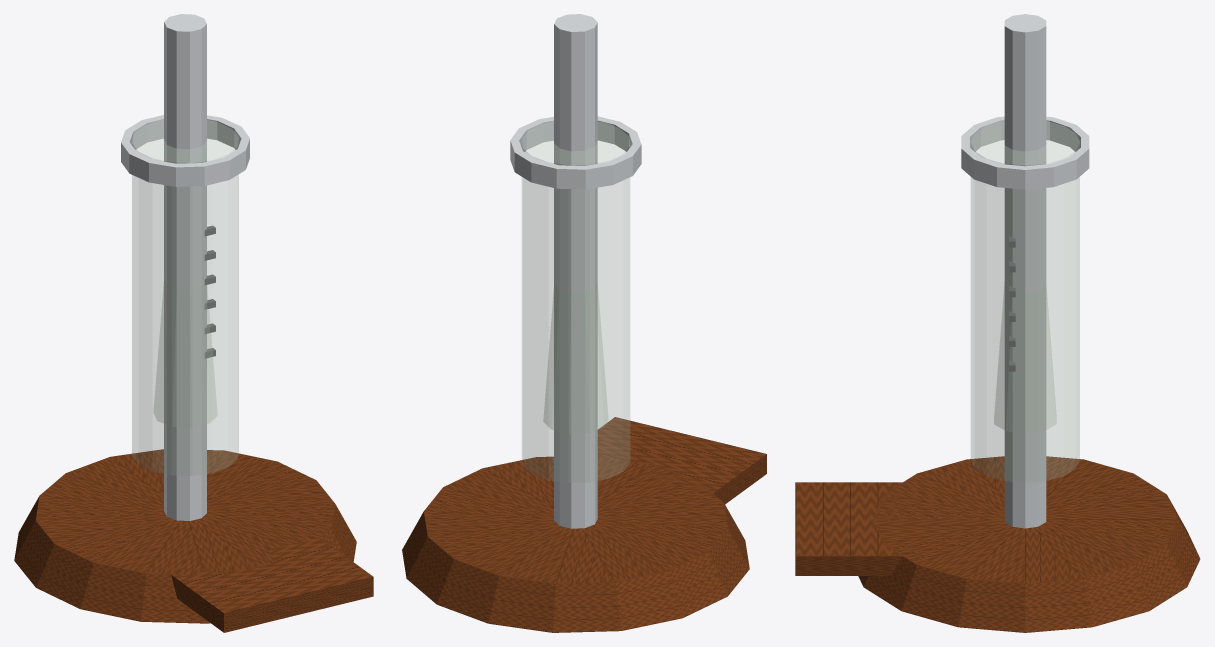
The model's file is hydrometer-stand.glb.
The picture shows the model from 3 angles, left to right: view 1: azimuth 30°, elevation 25°; view 2: azimuth 150°, elevation 25°; view 3: azimuth 270°, elevation 25°; orthographic projection.
Visible parts, largest first — view 1: hydrometer-stand-oak, hydrometer-stand-glass, hydrometer-stand-steel, hydrometer-stand-dark; view 2: hydrometer-stand-oak, hydrometer-stand-glass, hydrometer-stand-steel; view 3: hydrometer-stand-oak, hydrometer-stand-glass, hydrometer-stand-steel.
Boxes of the visible parts, <box> form: hydrometer-stand-oak: <box>14,449,373,632</box>; hydrometer-stand-glass: <box>132,120,238,475</box>; hydrometer-stand-steel: <box>121,14,249,520</box>; hydrometer-stand-dark: <box>204,225,215,358</box>; hydrometer-stand-oak: <box>402,417,766,632</box>; hydrometer-stand-glass: <box>522,122,629,482</box>; hydrometer-stand-steel: <box>510,14,641,528</box>; hydrometer-stand-oak: <box>795,456,1200,632</box>; hydrometer-stand-glass: <box>971,121,1079,482</box>; hydrometer-stand-steel: <box>961,14,1089,528</box>.
Size of the model in its own units: 0.32 by 0.54 by 0.37.
4 materials, 1 textured.
